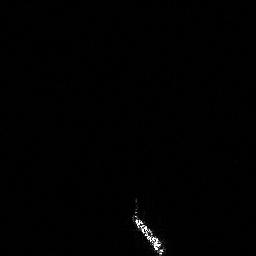ship: (129, 196, 169, 256)
